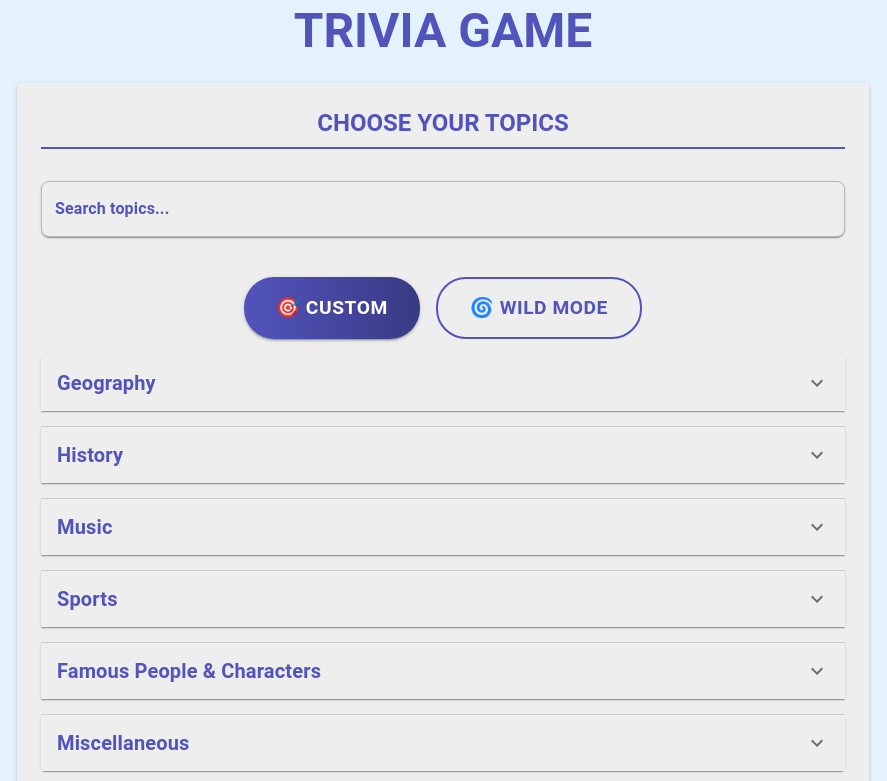
GameTopicSelection Component › Custom mode clears all selections
First select Wild Mode
Click the button "🌀 Wild Mode" at (539, 308), box [436, 277, 642, 339]
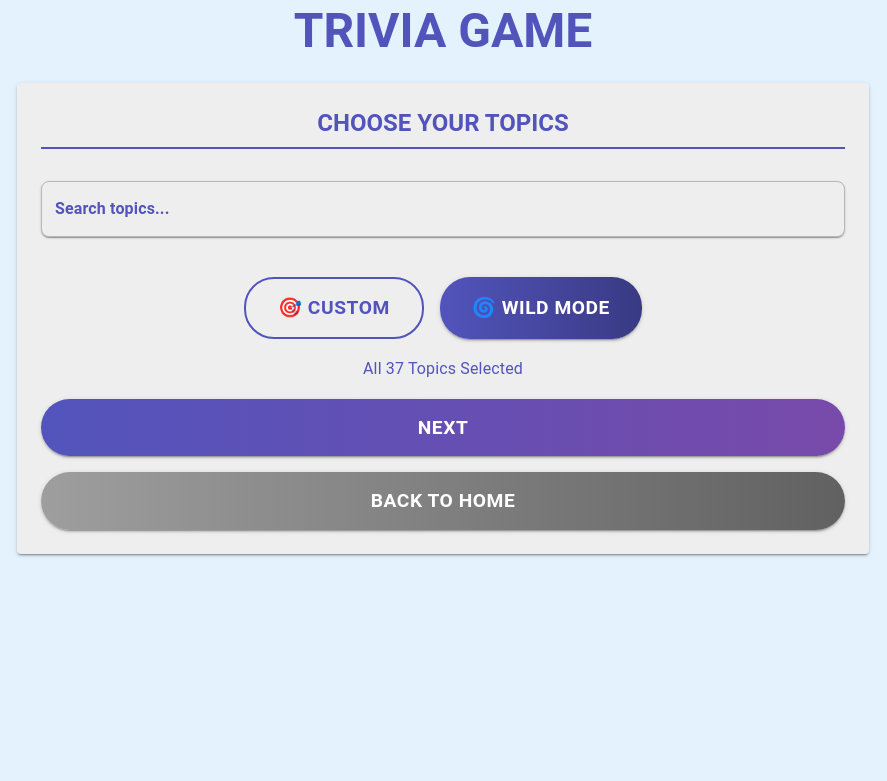
Then switch to Custom Mode
Click the button "🎯 Custom" at (334, 308), box [244, 277, 424, 339]
(page scrolled)
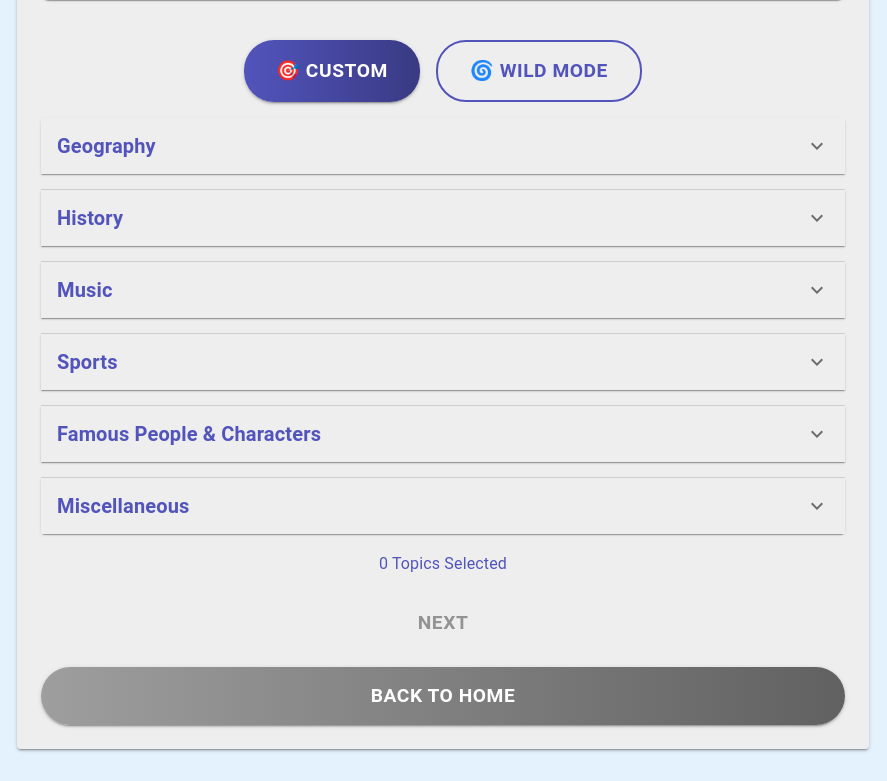
Now the heading "0 Topics Selected" is shown, box [379, 554, 507, 573]
Now the button "NEXT" is disabled, box [41, 594, 845, 651]
